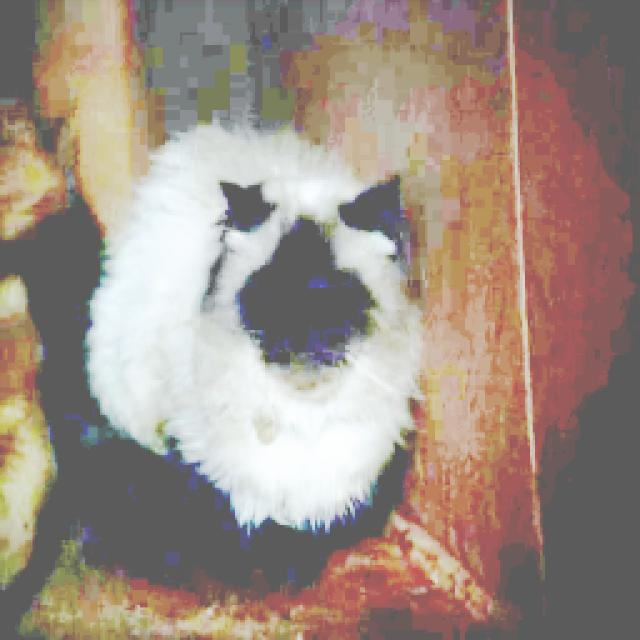cat: (57, 104, 439, 546)
